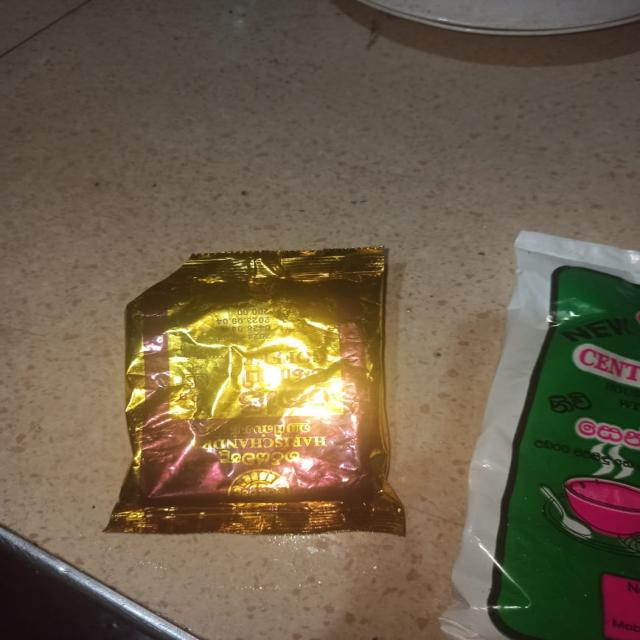Central Tea: (469, 243, 639, 640)
Harischandra Coffee: (89, 238, 436, 551)
